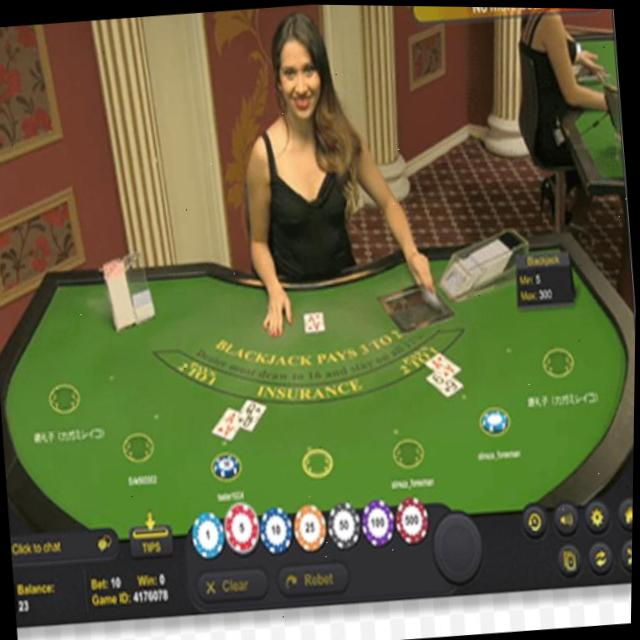Card-6: (427, 369, 465, 397)
Card-A: (212, 406, 241, 440), (426, 350, 461, 378), (304, 309, 326, 331)
Card-Q: (234, 398, 268, 430)
